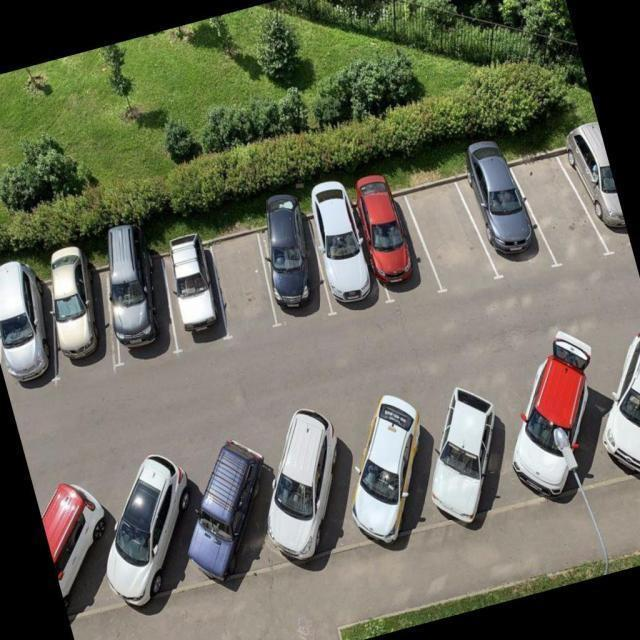Car: (348, 172, 443, 310), (457, 150, 552, 286), (252, 204, 333, 334), (38, 258, 125, 378), (100, 254, 181, 370), (304, 194, 380, 315), (0, 268, 72, 395), (153, 240, 233, 354), (568, 131, 634, 264)
Vacant: (408, 166, 491, 296), (518, 140, 604, 264), (205, 224, 288, 344)
